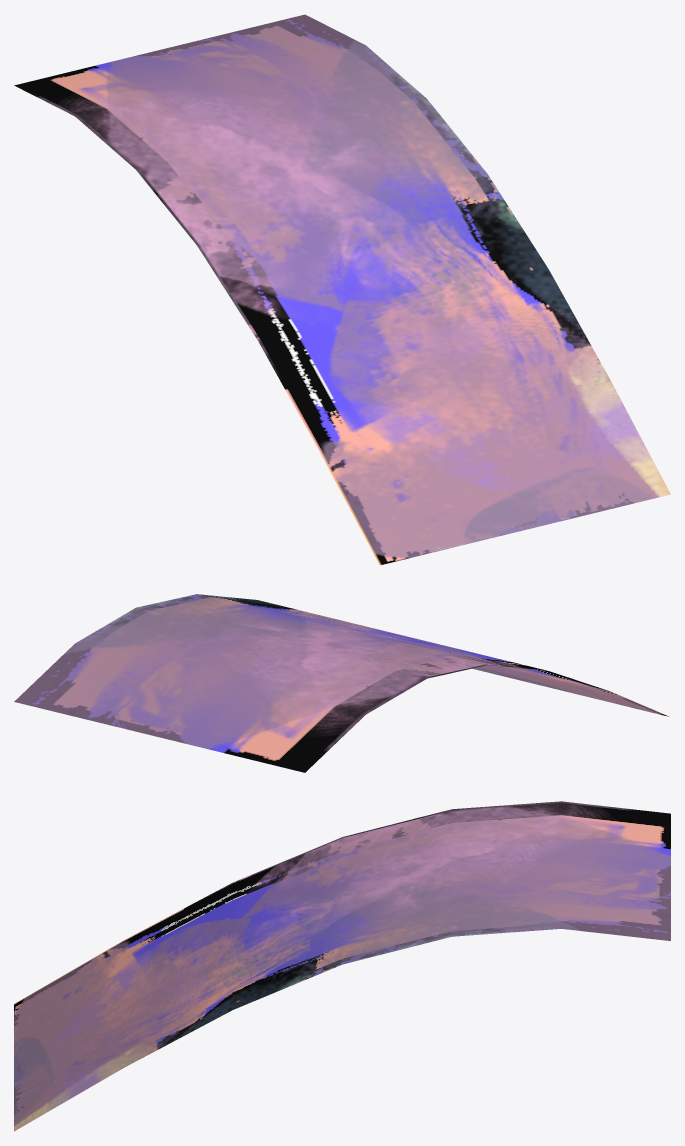
Rendered from S_BrushStroke_PurplePink.fbx.
3 renders of one model, top to bottom at view 1: azimuth 30°, elevation 25°; view 2: azimuth 150°, elevation 25°; view 3: azimuth 270°, elevation 25°, orthographic. The views are drawn at different scales.
Parts seen in each view (by area): view 1: S_BrushStroke_PurplePink; view 2: S_BrushStroke_PurplePink; view 3: S_BrushStroke_PurplePink.
Part boxes in pixels (x1,y1,x2,y2): S_BrushStroke_PurplePink: (14,14,670,565); S_BrushStroke_PurplePink: (14,594,669,772); S_BrushStroke_PurplePink: (14,801,670,1131).
Size of the model in its own units: 1.53 by 1.14 by 3.34.
